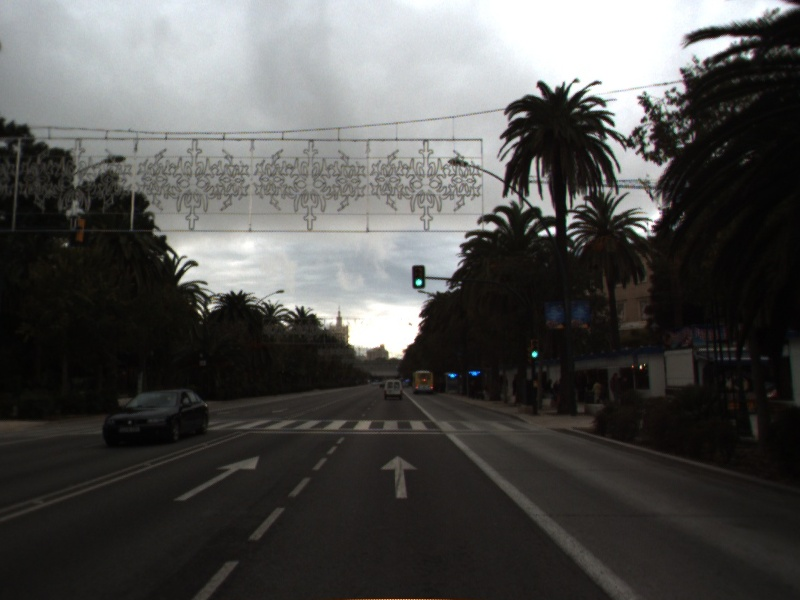STRAIGHT: (172, 454, 262, 503), (378, 454, 420, 500)
